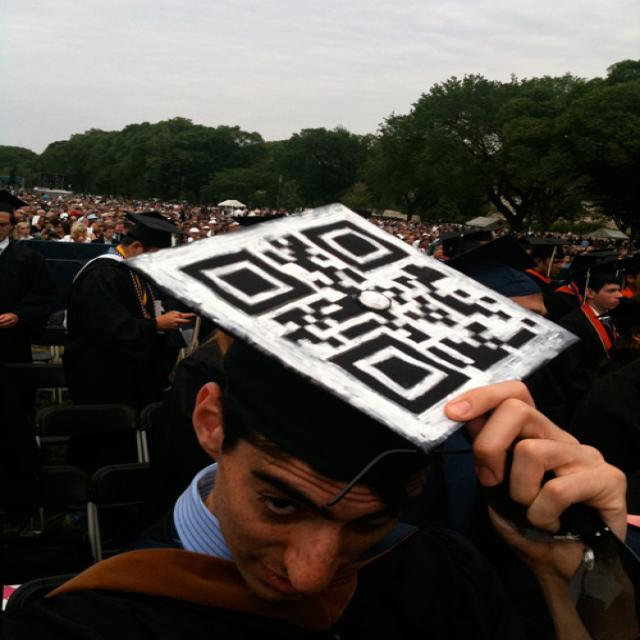qr-code: (179, 219, 547, 415)
